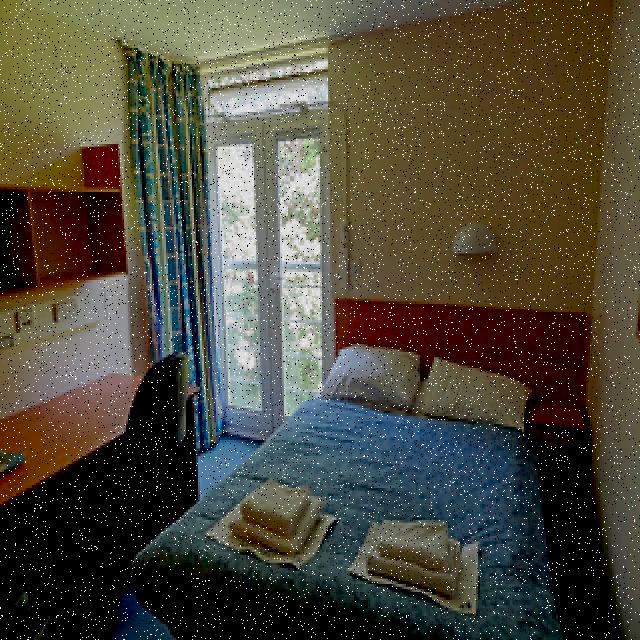bed: (196, 306, 545, 640)
